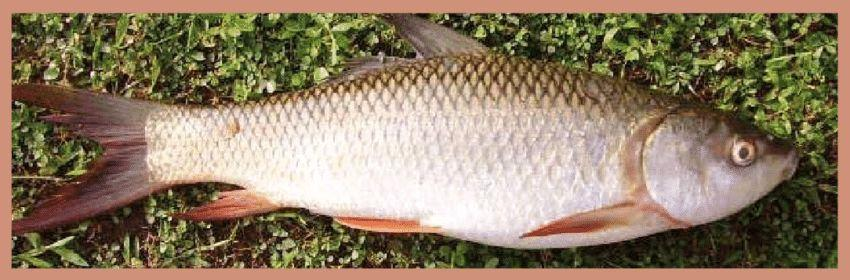Indian Carp: (15, 13, 799, 252)
